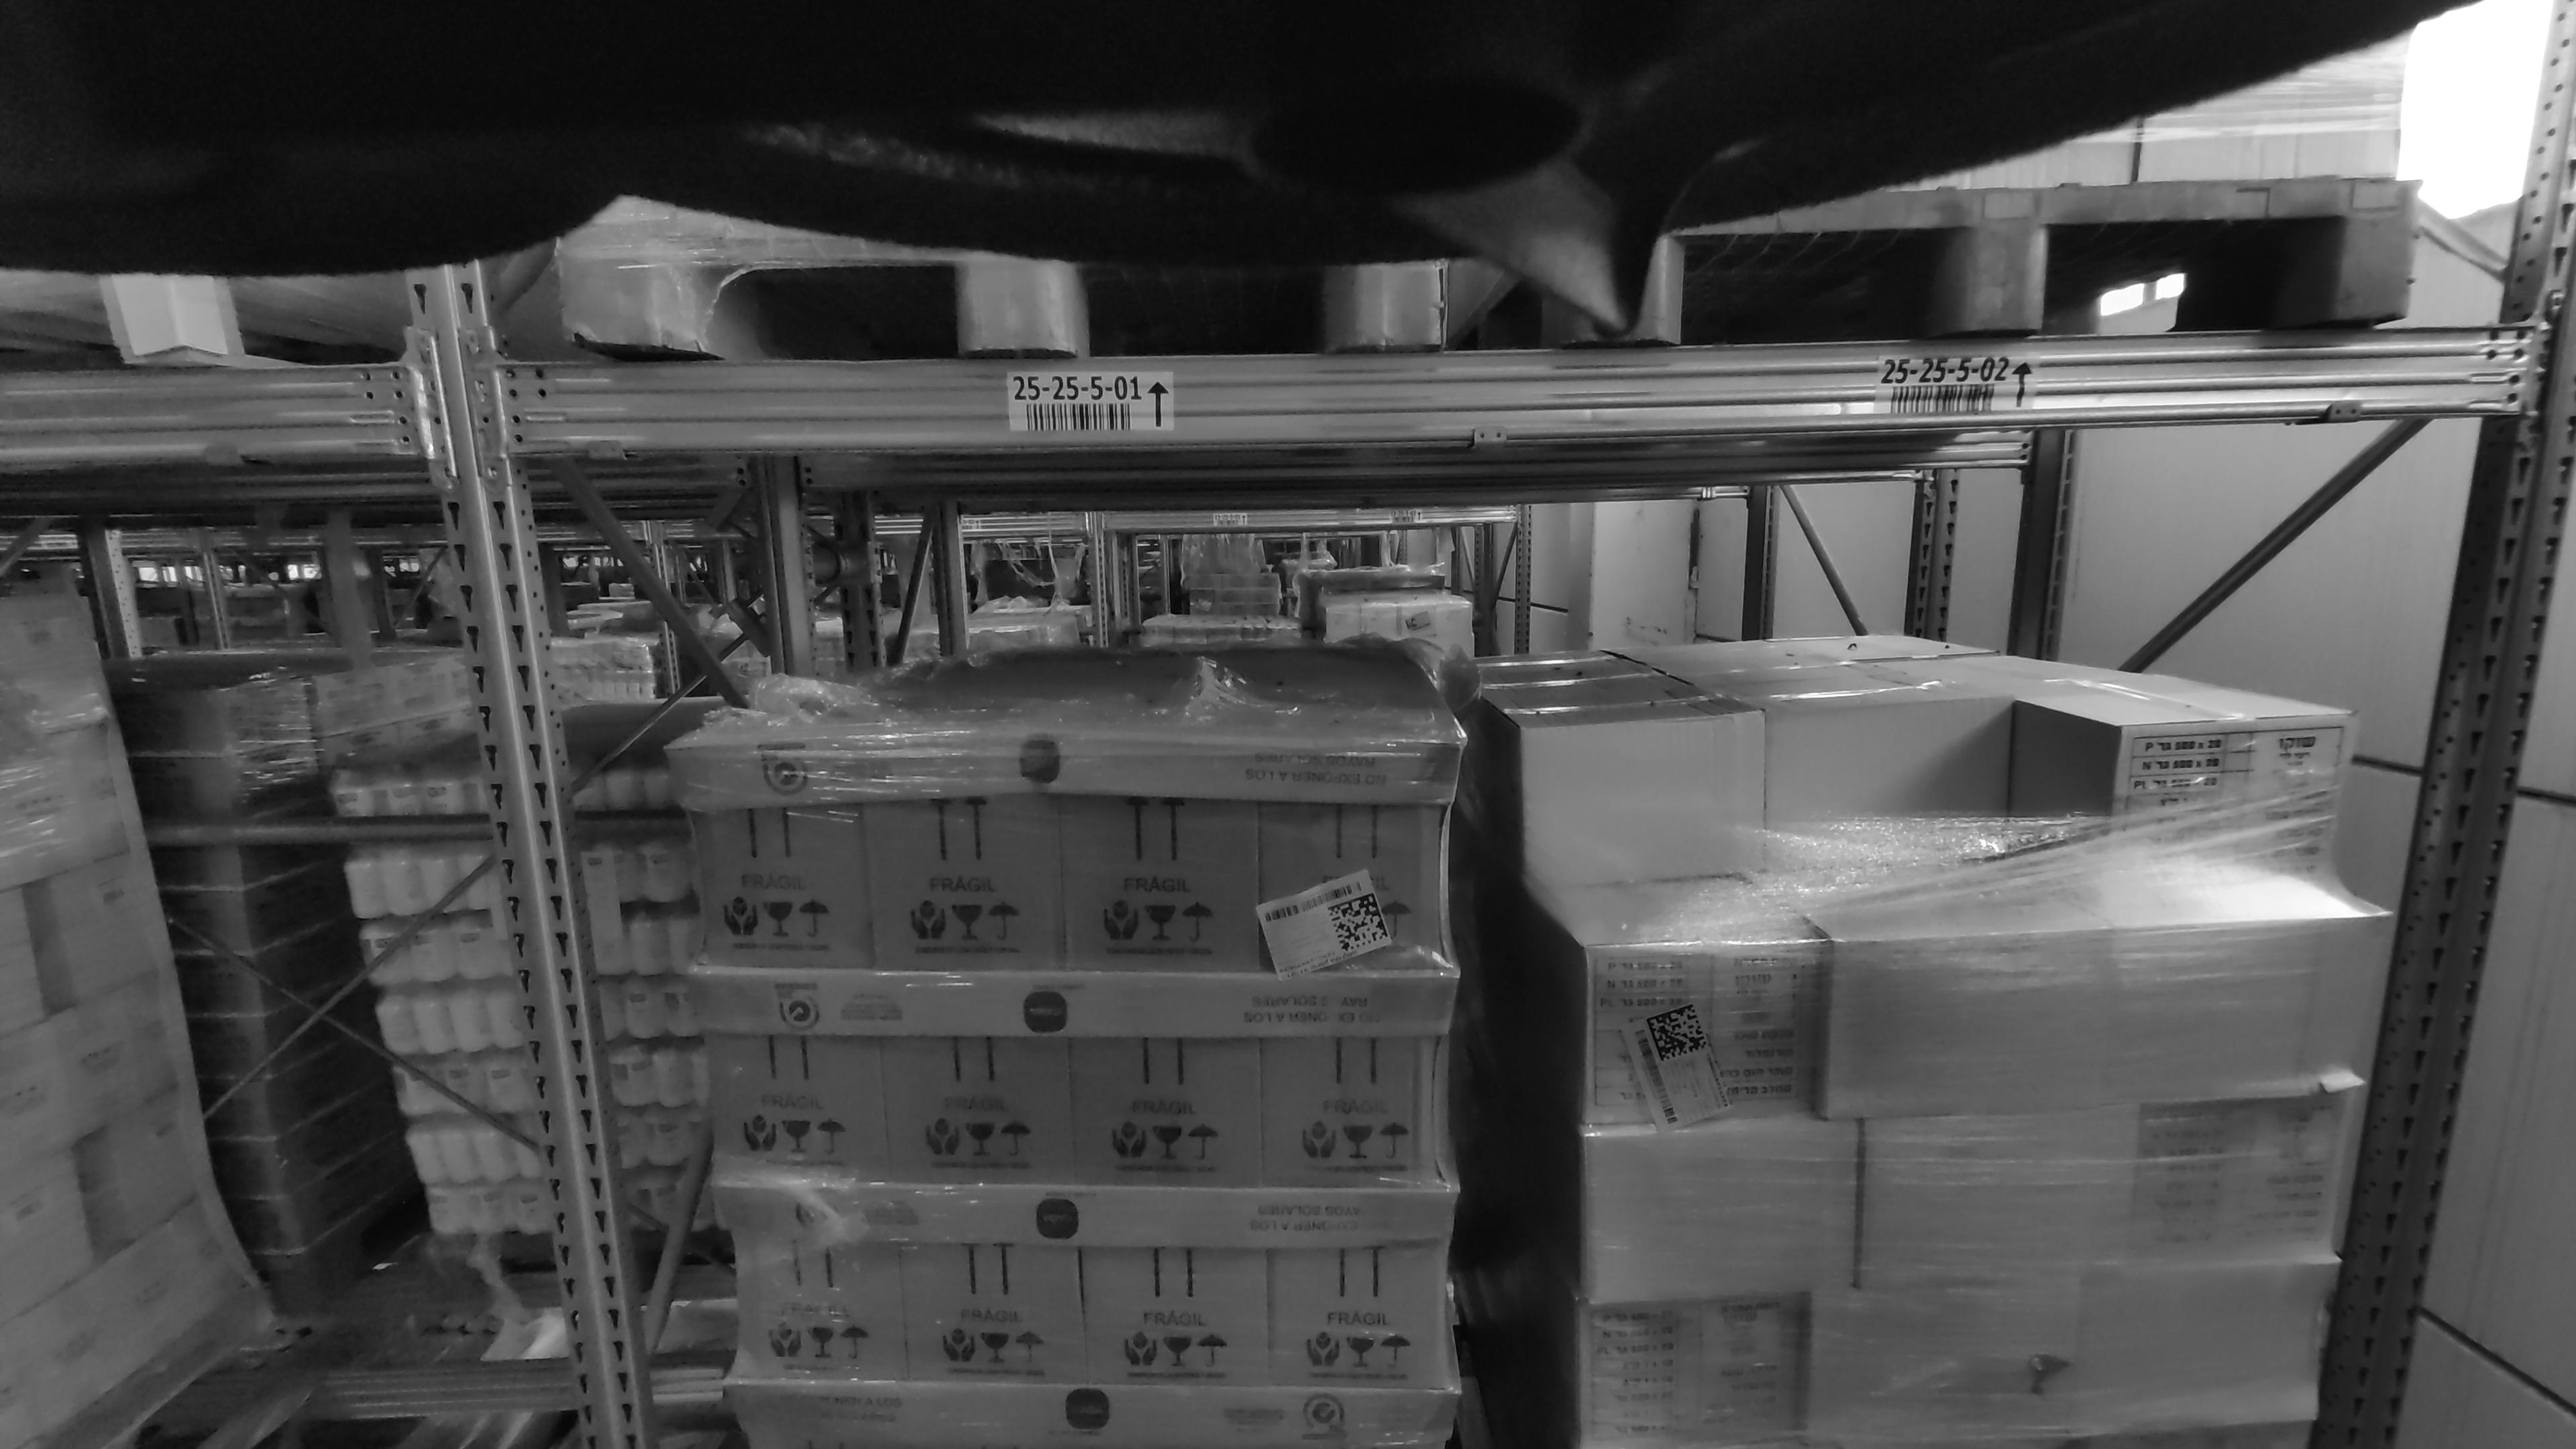empty-shelf: (67, 492, 568, 1449)
